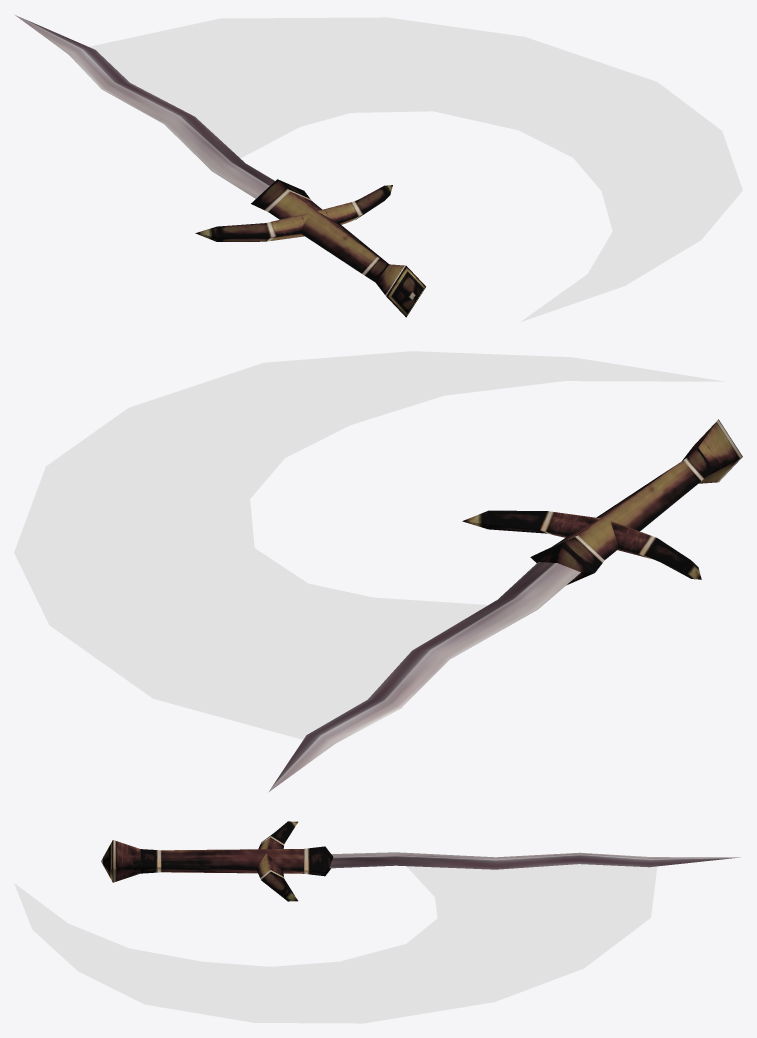
File: dagger_coltello_high.fbx
The picture shows the model from 3 angles, top to bottom: view 1: azimuth 30°, elevation 25°; view 2: azimuth 150°, elevation 25°; view 3: azimuth 270°, elevation 25°; orthographic projection. The views are drawn at different scales.
Parts seen in each view (by area): view 1: motion_blur, coltello; view 2: motion_blur, coltello; view 3: motion_blur, coltello.
Part boxes in pixels (bbox=[...]): motion_blur: bbox=[89, 17, 742, 321]; coltello: bbox=[14, 14, 425, 317]; motion_blur: bbox=[14, 351, 724, 739]; coltello: bbox=[268, 419, 742, 792]; motion_blur: bbox=[14, 864, 657, 1023]; coltello: bbox=[101, 821, 740, 901].
Bounding box in the file's own units: 188 × 18.67 × 287.
2 materials, 2 textured.
